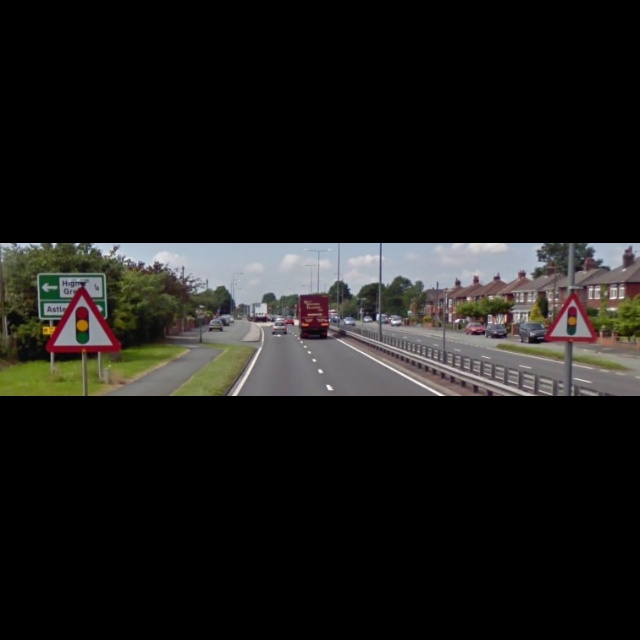Traffic lights: (43, 286, 121, 354), (540, 291, 598, 344)
